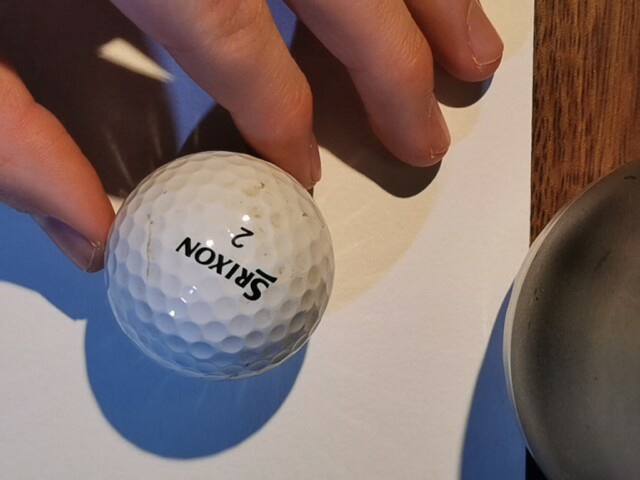Ball: (104, 150, 335, 381)
Srixon: (176, 236, 277, 301)
